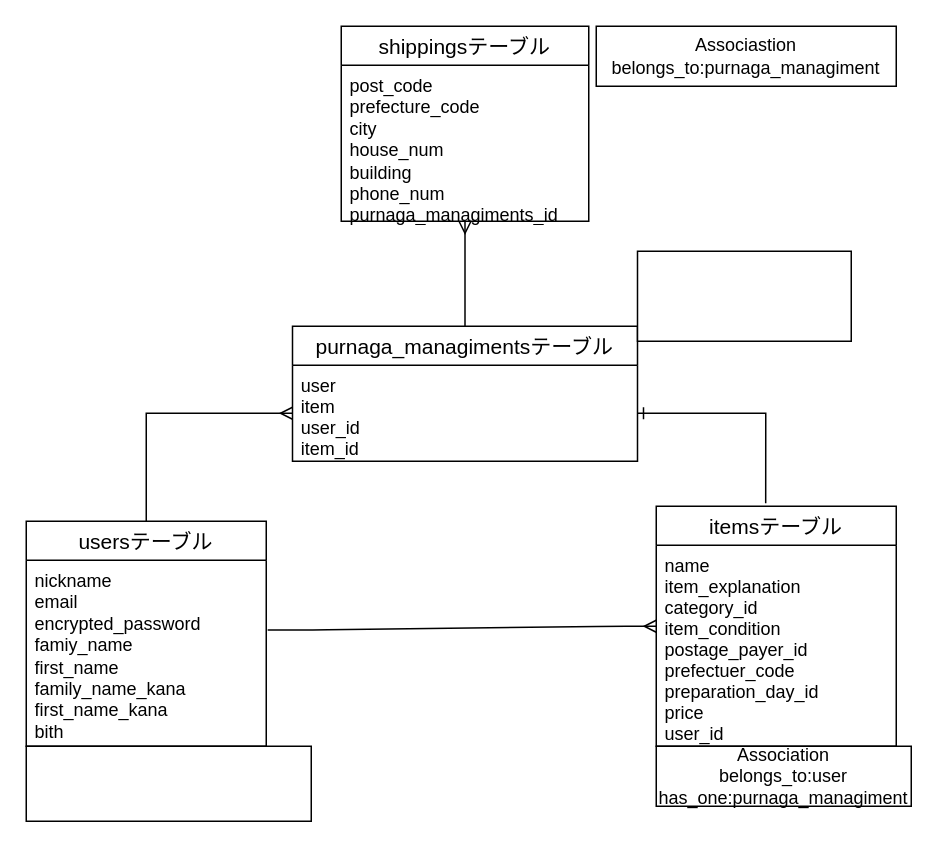
Some shapes in this 938 by 848 pixel diagram are drawn without their labels. The shapes that lost their labels are listed below. From the top down, each one's centre as x and y in pixels, then its label:
point 743,295: Association has_manyshippings belongs_to:user belongs_to:item
point 168,783: Association has_many:items has_many:purnaga_managiments
